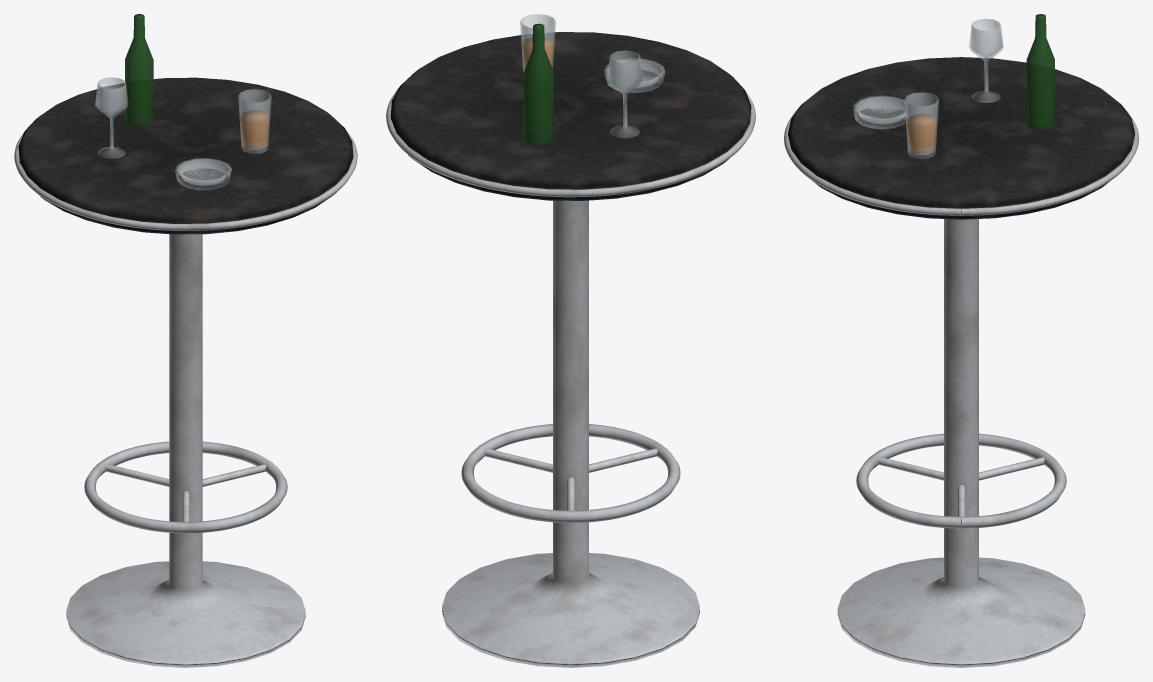
The model's file is klub_stolik.glb.
3 renders of one model, left to right at view 1: azimuth 30°, elevation 25°; view 2: azimuth 150°, elevation 25°; view 3: azimuth 270°, elevation 25°, orthographic. The views are drawn at different scales.
Visible parts, largest first — view 1: Stolik, Szklo; view 2: Stolik, Szklo; view 3: Stolik, Szklo.
Boxes of the visible parts, x1,y1,x2,y2 form: Stolik: [14, 77, 357, 667]; Szklo: [95, 14, 271, 190]; Stolik: [386, 32, 755, 667]; Szklo: [520, 14, 665, 144]; Stolik: [784, 57, 1138, 667]; Szklo: [853, 14, 1054, 158].
Bounding box in the file's own units: 0.716 × 1.33 × 0.716.
4 materials, 1 textured.
